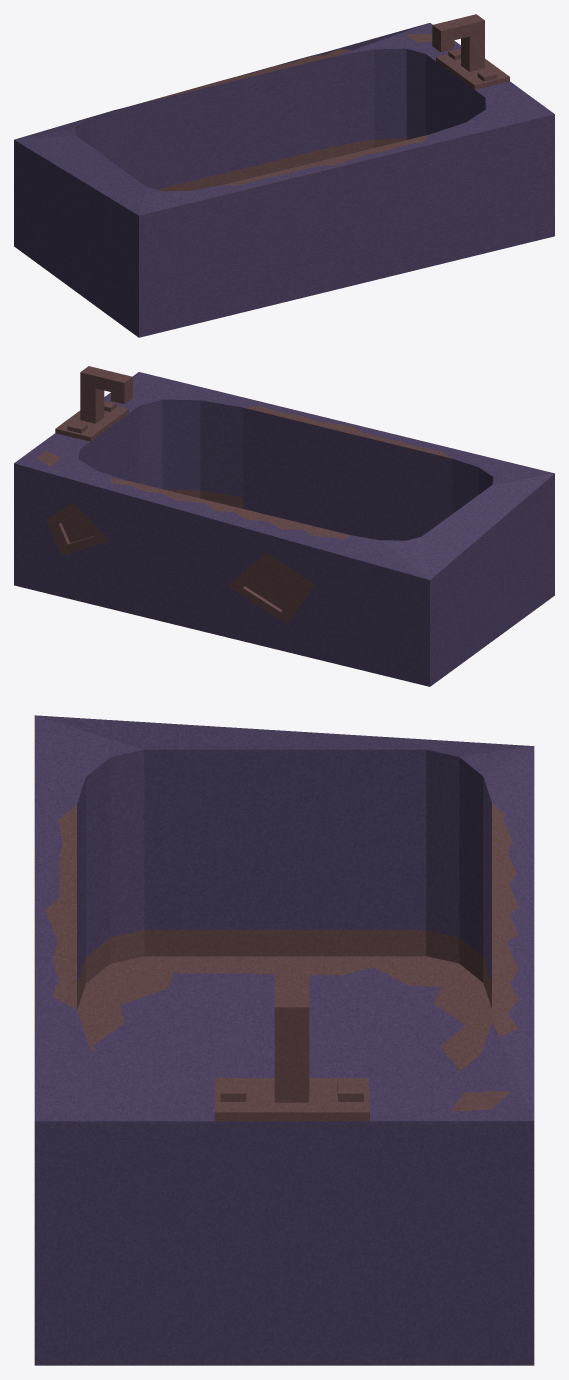
Rendered from CDBath.fbx.
3 views of the same model, one above another, from view 1: azimuth 30°, elevation 25°; view 2: azimuth 150°, elevation 25°; view 3: azimuth 270°, elevation 25° (orthographic). The views are drawn at different scales.
Visible parts, largest first — view 1: CorruptionDarkBathtub; view 2: CorruptionDarkBathtub; view 3: CorruptionDarkBathtub.
Part boxes in pixels (<box>): CorruptionDarkBathtub: <box>14,14,554,337</box>; CorruptionDarkBathtub: <box>14,366,554,686</box>; CorruptionDarkBathtub: <box>34,715,534,1365</box>.
Bounding box in the file's own units: 147 × 58.88 × 76.49.
